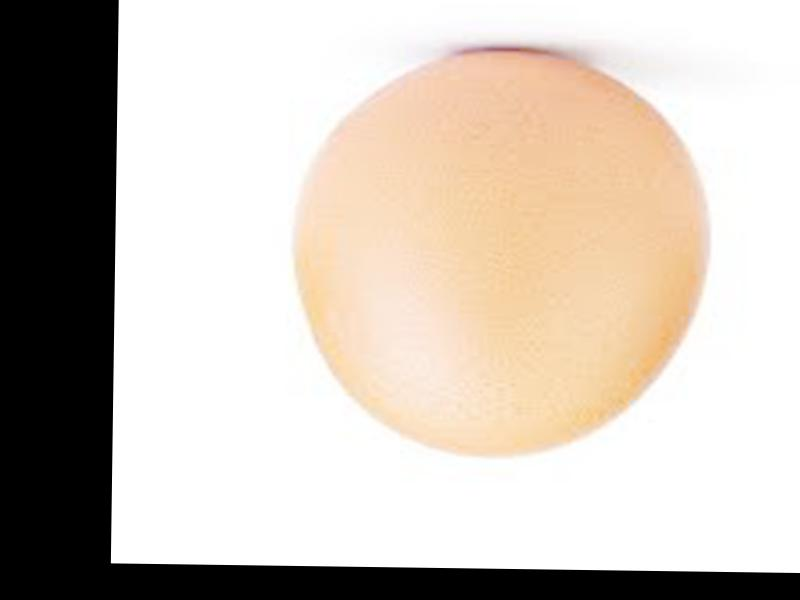Eggs: (292, 50, 710, 454)
